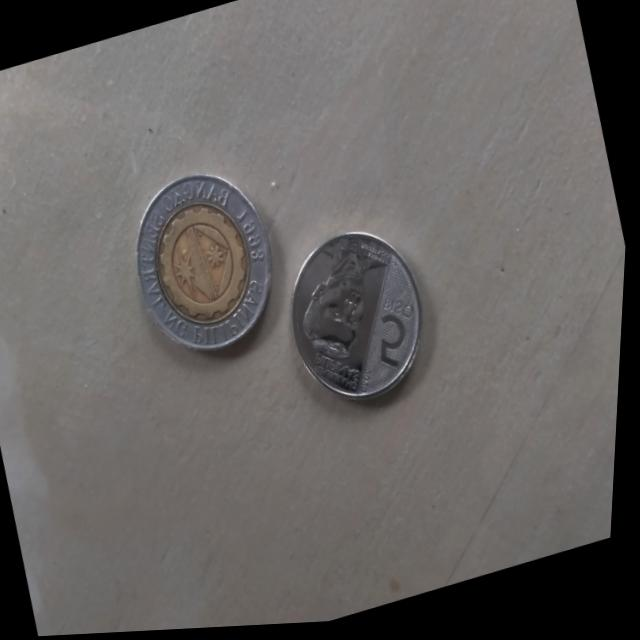10_Old_Back: (114, 159, 292, 374)
5_New_Front: (362, 289, 436, 386)
